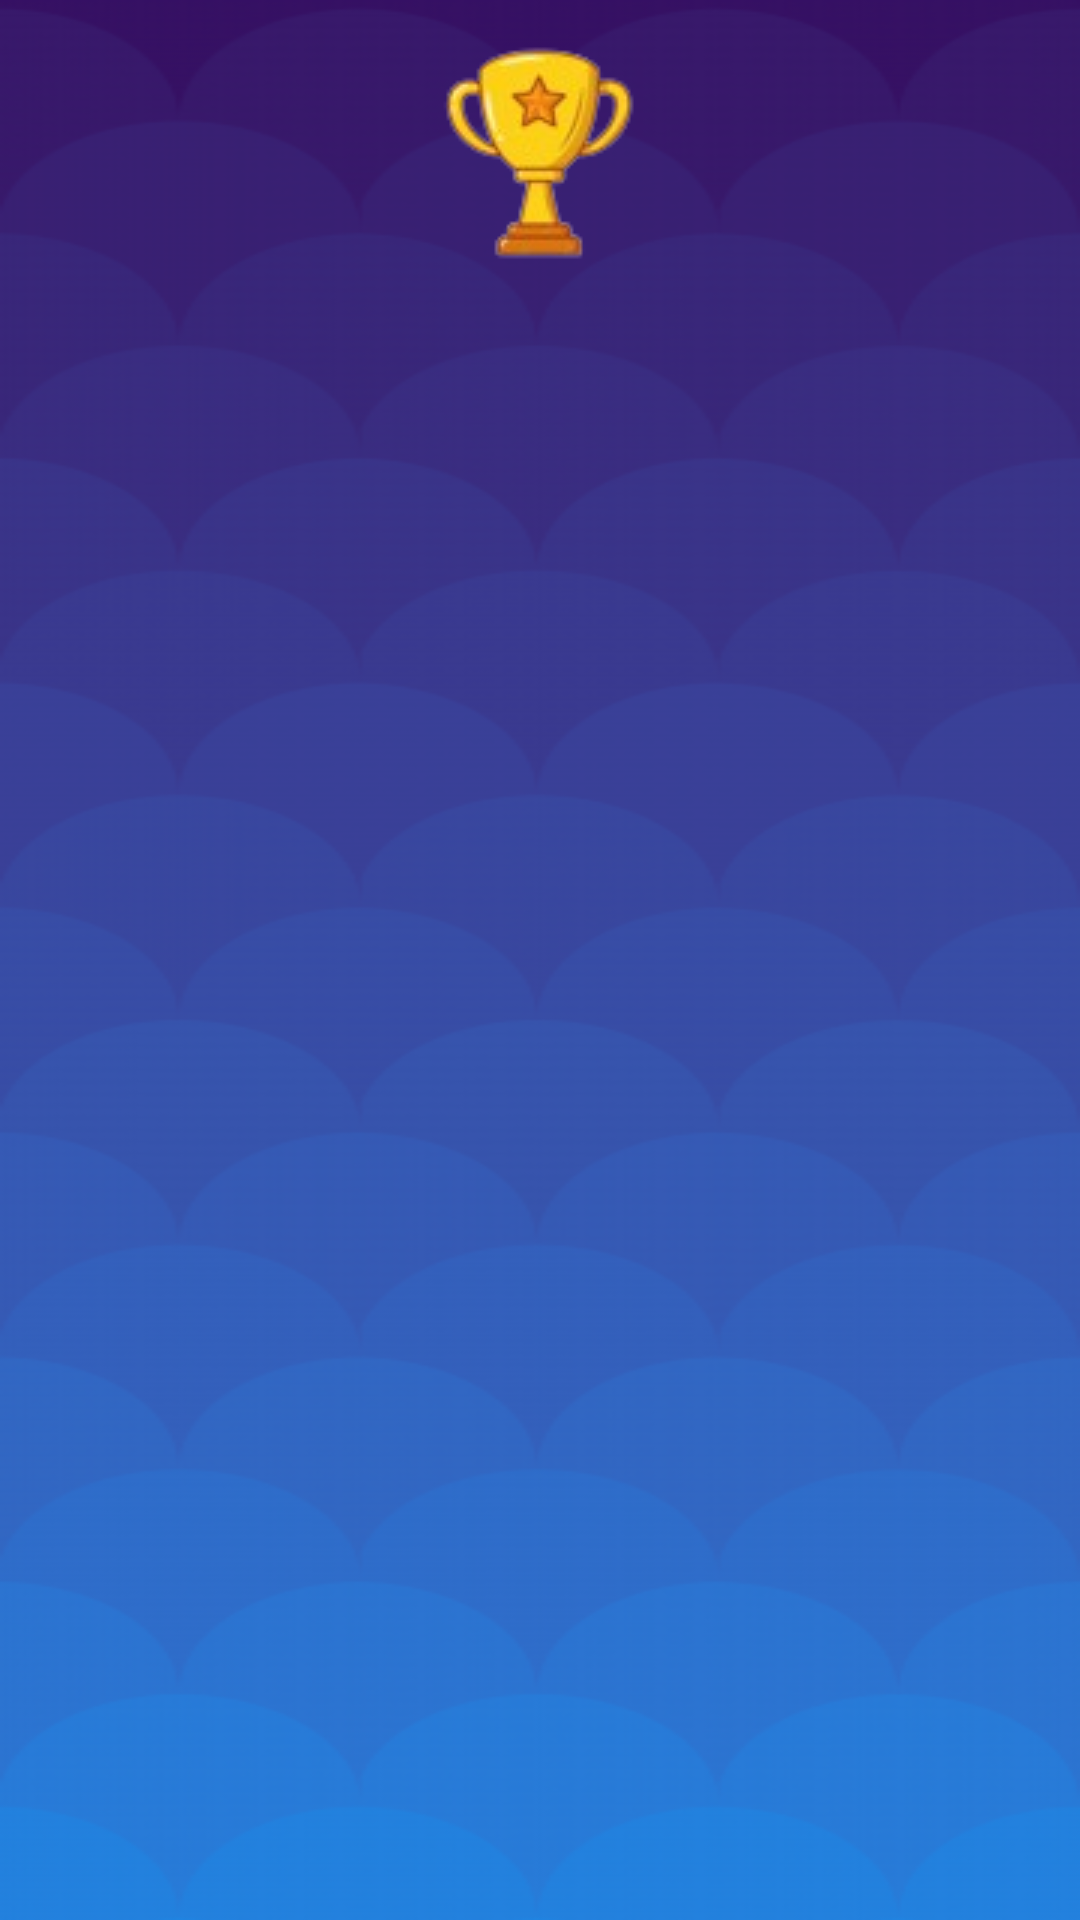

Icon bounding boxes for this 1080 x 1920 phone screenshot, format (x1,y1,x2,y2):
trophee: (446,48,633,258)
